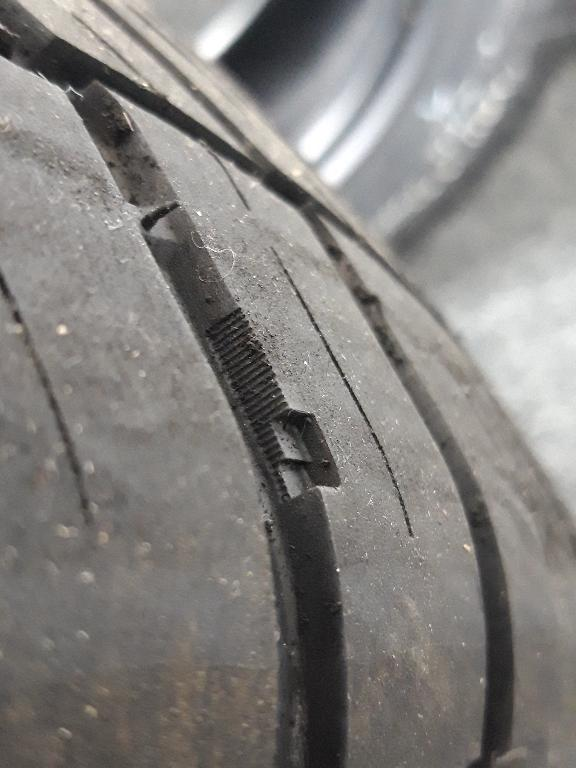temoin:50: (227, 374, 350, 513)
